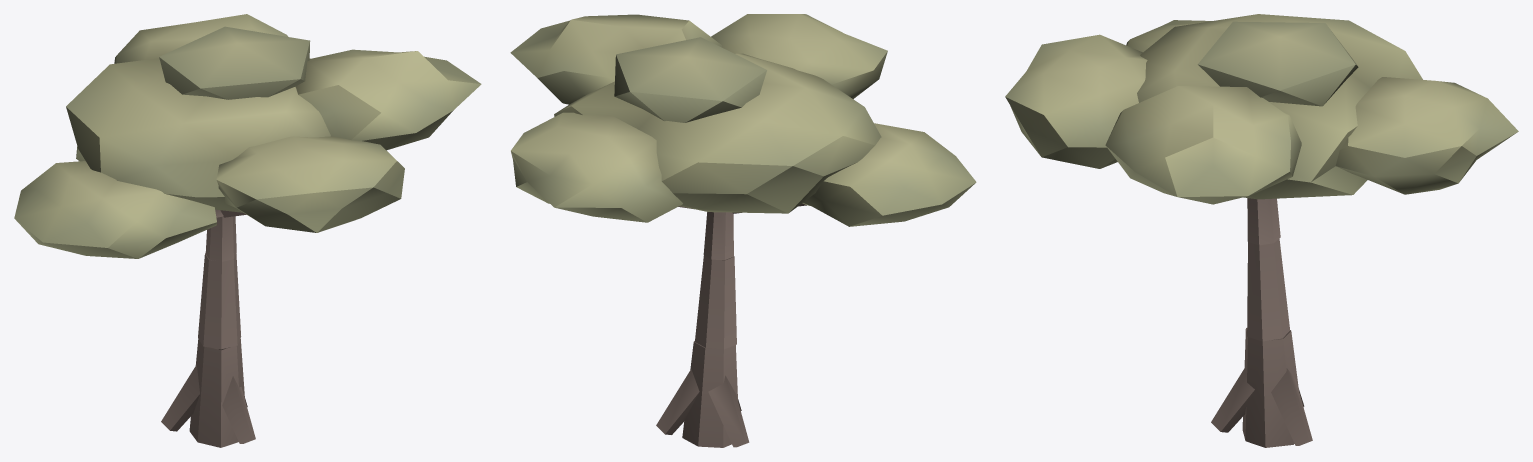
File: flat_tree_b.glb
The picture shows the model from 3 angles, left to right: view 1: azimuth 30°, elevation 25°; view 2: azimuth 150°, elevation 25°; view 3: azimuth 270°, elevation 25°; orthographic projection. The views are drawn at different scales.
Visible parts, largest first — view 1: flat_tree_b; view 2: flat_tree_b; view 3: flat_tree_b.
Boxes of the visible parts, box(x1,y1,x2,y2) form: flat_tree_b: box(14, 14, 481, 447); flat_tree_b: box(510, 14, 976, 447); flat_tree_b: box(1005, 14, 1518, 447).
Bounding box in the file's own units: 5.1 × 4.24 × 4.81.
